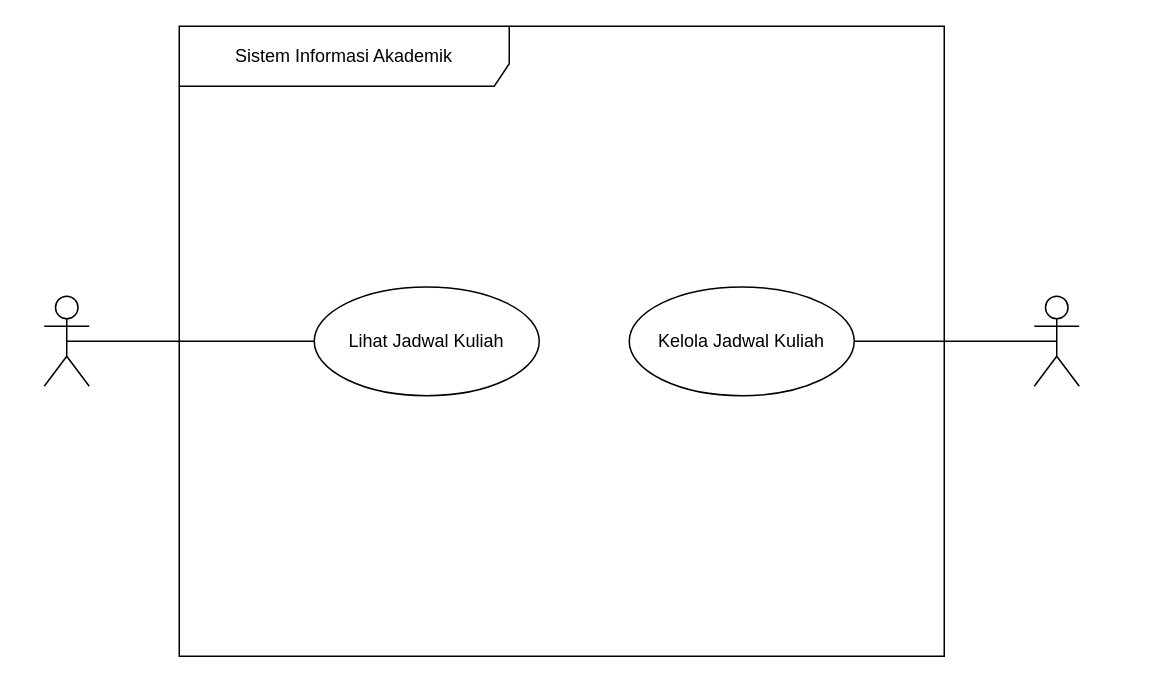
Image size: 1149x683. Some labels were removed from this diagram. The centre of each missing label's shape, as x and y in pixels:
Admin Akademik: (x=1056, y=340)
Mahasiwa: (x=66, y=340)
